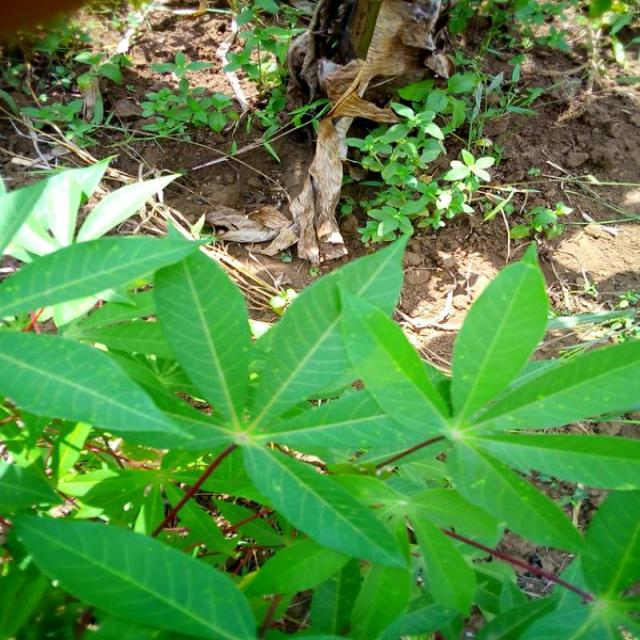cassava leaf: (2, 156, 640, 637), (10, 511, 258, 638)
